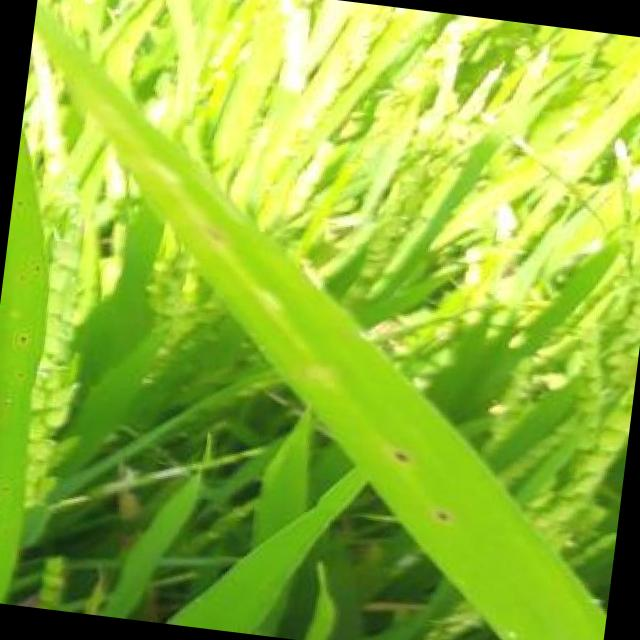Rice_Brownspot: (422, 498, 459, 528), (382, 438, 415, 468), (7, 324, 34, 344), (13, 268, 34, 286), (26, 258, 46, 274), (12, 190, 28, 209), (12, 364, 29, 381)
